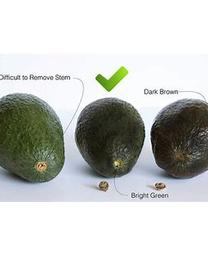avocado: (0, 90, 66, 186), (74, 95, 146, 177), (150, 99, 207, 181)
